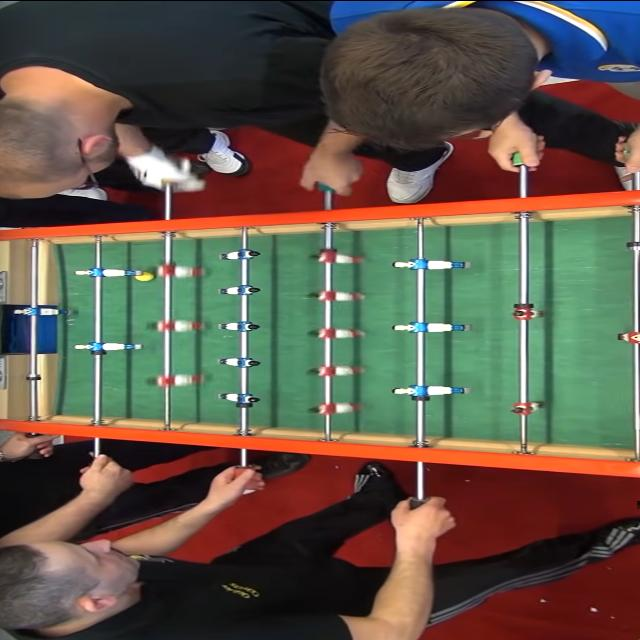ball: (136, 270, 152, 280)
